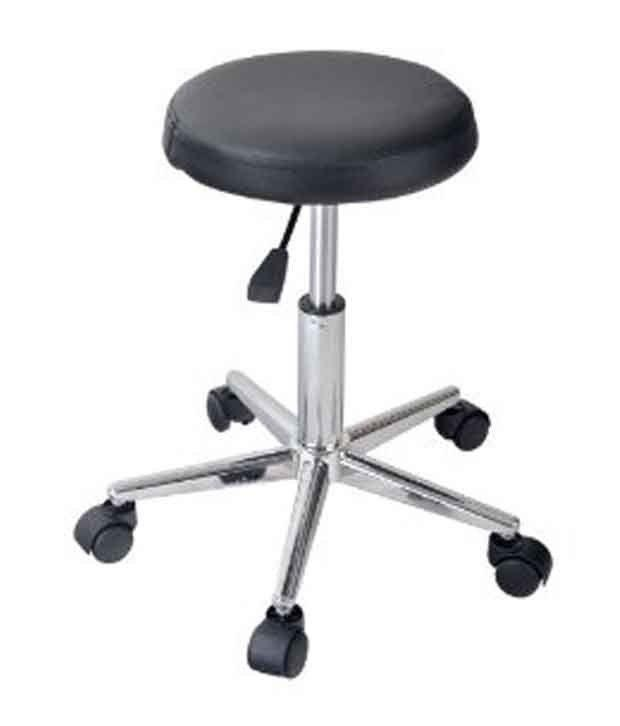stool: (72, 47, 553, 678)
